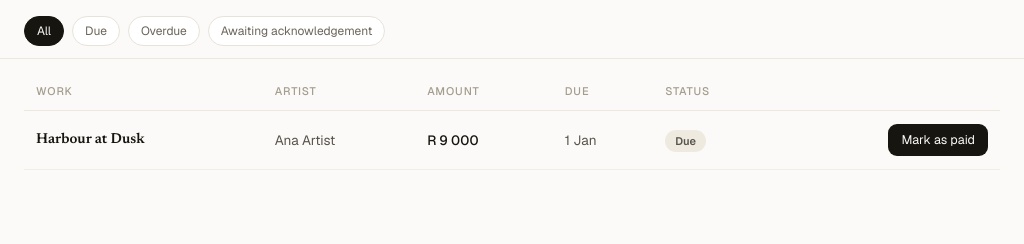
Test case: PayoutsPanel filters › explains when a filter has no matches
Click the button "Overdue": (164, 31) [128,16,200,46]
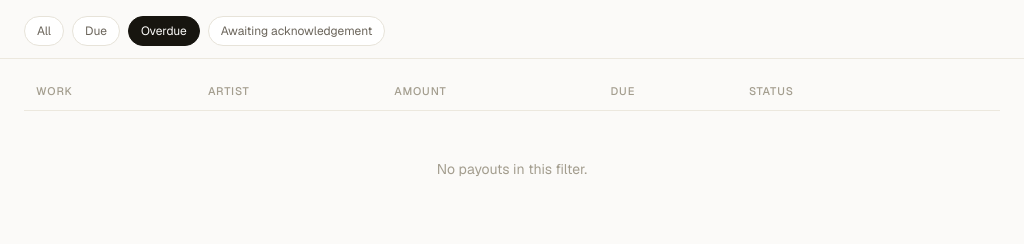
Expected: the text "No payouts in this filter." is shown, [24,110,1000,228]
